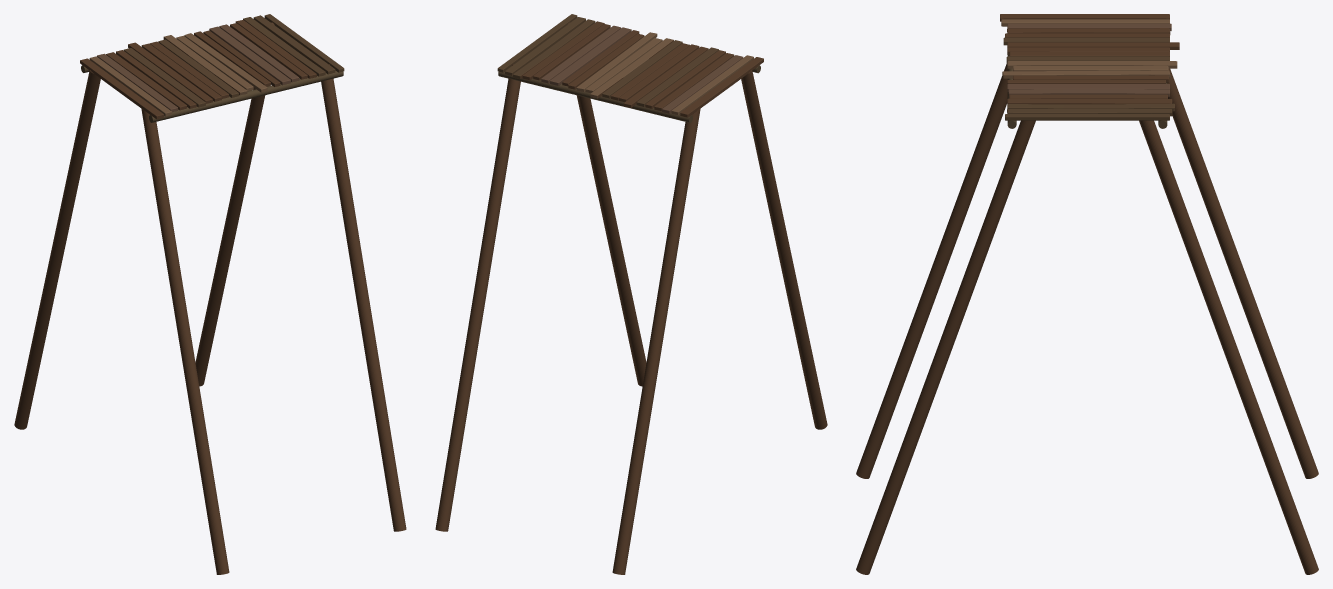
The model's file is Platform.fbx.
The picture shows the model from 3 angles, left to right: view 1: azimuth 30°, elevation 25°; view 2: azimuth 150°, elevation 25°; view 3: azimuth 270°, elevation 25°; orthographic projection. The views are drawn at different scales.
Parts seen in each view (by area): view 1: Cylinder.001, Planks, Cylinder; view 2: Cylinder.001, Planks, Cylinder; view 3: Cylinder.001, Planks.
Part boxes in pixels (left/top/right/bottom): Cylinder.001: left=14, top=22, right=406, bottom=574; Planks: left=80, top=14, right=344, bottom=119; Cylinder: left=81, top=65, right=343, bottom=122; Cylinder.001: left=435, top=22, right=827, bottom=574; Planks: left=497, top=14, right=763, bottom=117; Cylinder: left=498, top=65, right=760, bottom=122; Cylinder.001: left=856, top=64, right=1318, bottom=574; Planks: left=1000, top=14, right=1179, bottom=120.
Size of the model in its own units: 771 by 1601 by 1455.
